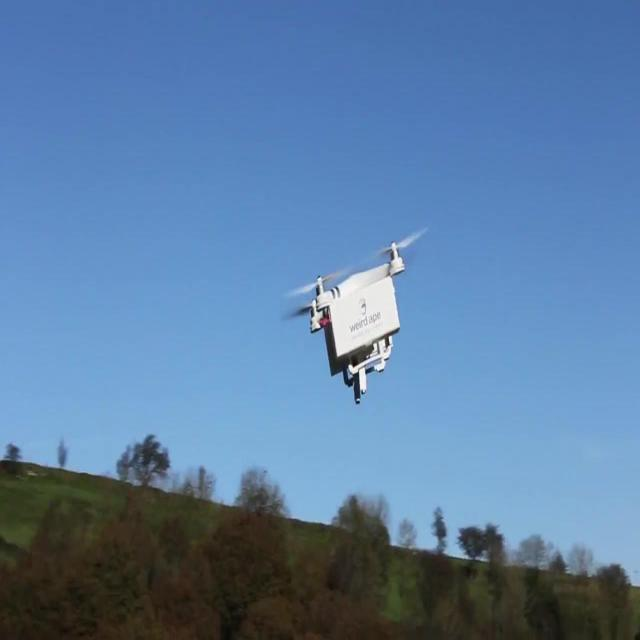UAV: (310, 242, 404, 404)
